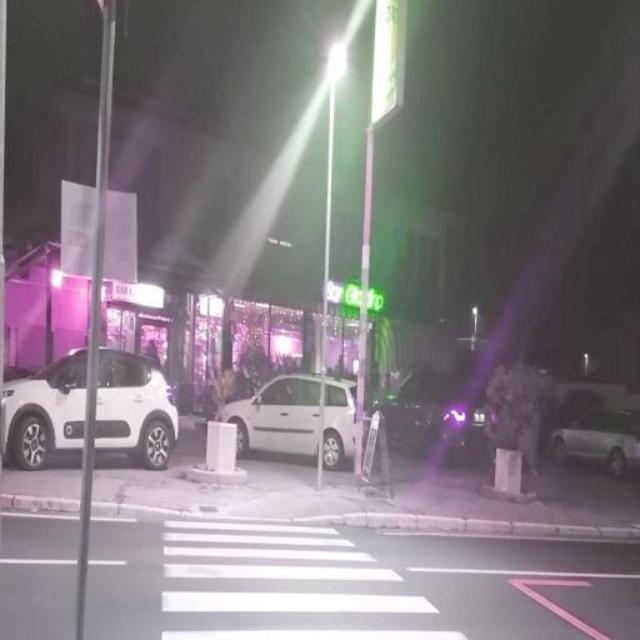sidewalk: (162, 520, 472, 640)
